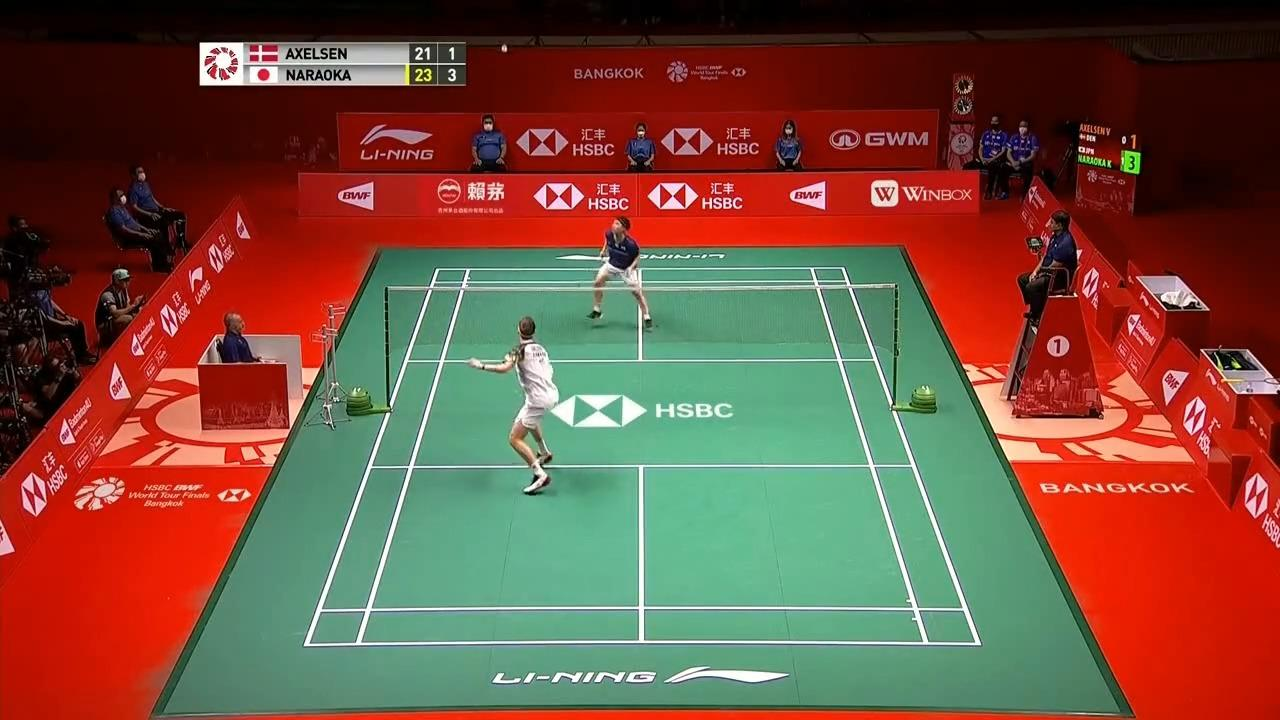shuttle: (497, 40, 510, 56)
